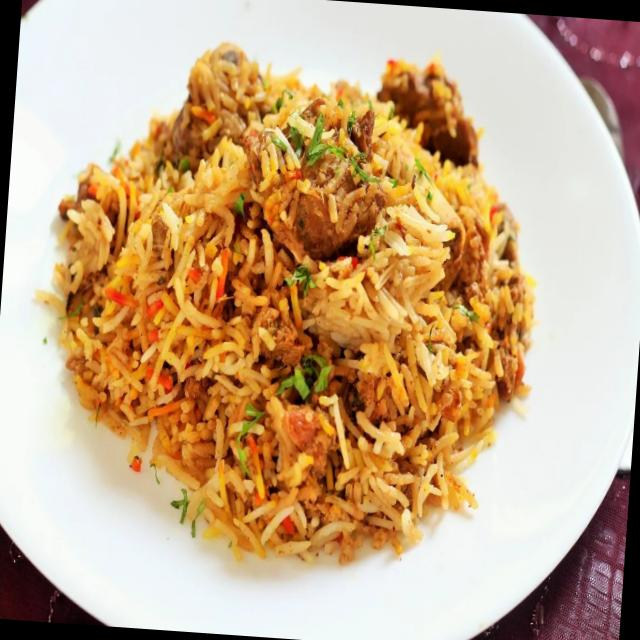Biryani: (17, 24, 555, 578)
